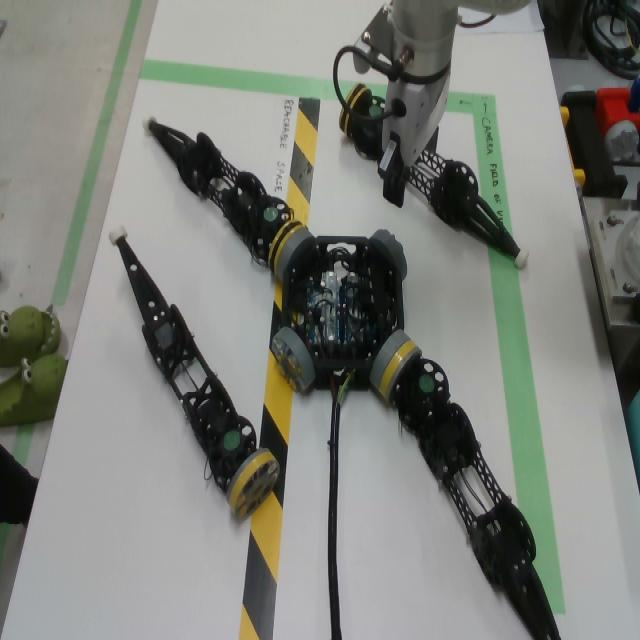body: (283, 236, 404, 391)
body_connector: (271, 327, 315, 396), (369, 329, 409, 389), (369, 229, 407, 280), (276, 228, 314, 277)
gripper: (378, 69, 451, 209)
leg: (379, 340, 562, 640), (109, 225, 281, 521), (141, 111, 304, 272), (408, 151, 530, 268), (333, 64, 386, 163)
leg_connector: (226, 448, 280, 520), (379, 340, 422, 400), (268, 220, 304, 275), (346, 84, 372, 109), (339, 108, 351, 137)
leg_marker: (224, 431, 241, 451), (419, 375, 434, 391), (264, 208, 278, 221), (369, 105, 381, 116)
